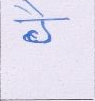e_matra: (13, 0, 47, 18)
